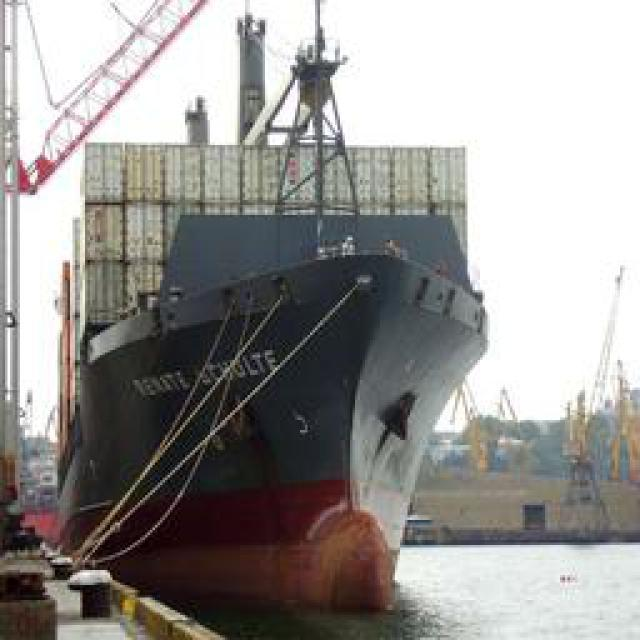Ship: (36, 8, 498, 619)
